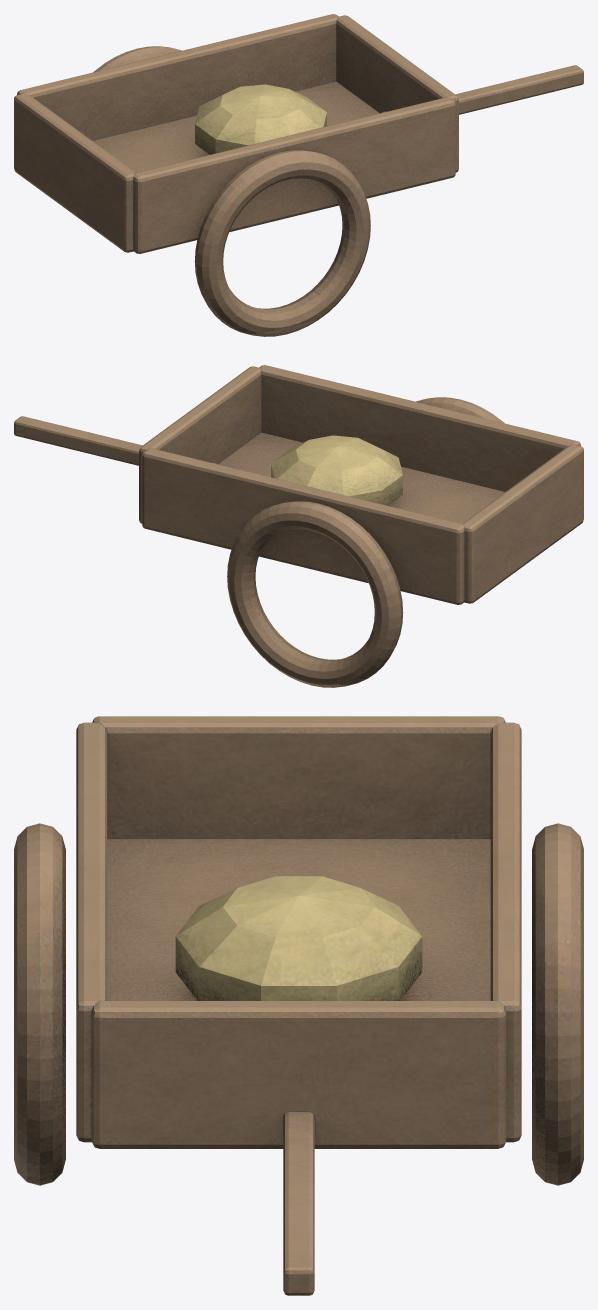
File: p_karren.glb
3 views of the same model, one above another, from view 1: azimuth 30°, elevation 25°; view 2: azimuth 150°, elevation 25°; view 3: azimuth 270°, elevation 25° (orthographic). The views are drawn at different scales.
Parts seen in each view (by area): view 1: p_karren; view 2: p_karren; view 3: p_karren.
Boxes of the visible parts, x1,y1,x2,y2 form: p_karren: (14, 14, 583, 336); p_karren: (14, 365, 583, 687); p_karren: (14, 716, 583, 1295).
Bounding box in the file's own units: 0.416 × 0.14 × 0.22.
1 material, 1 textured.
